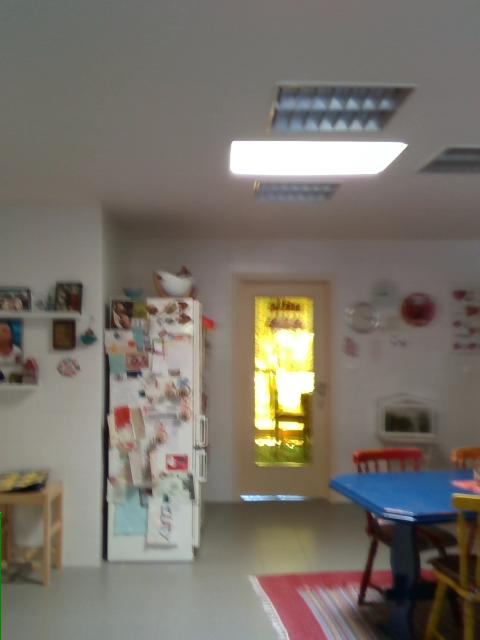door: (234, 275, 333, 505)
